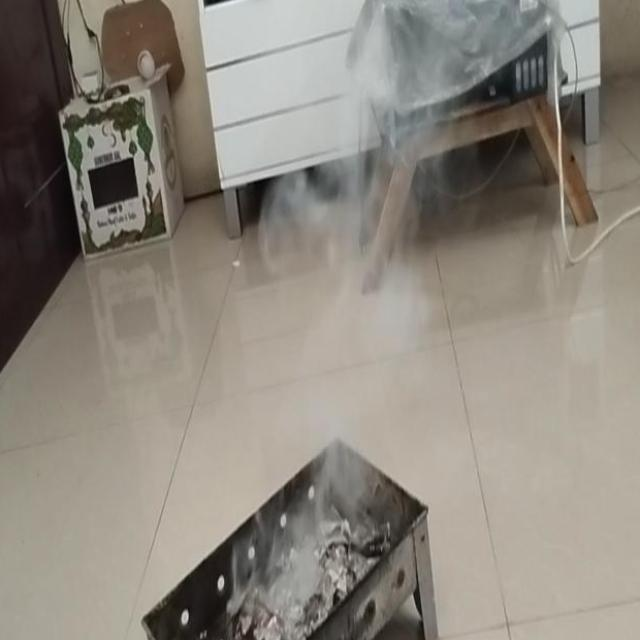fire: (261, 136, 434, 354), (282, 358, 380, 583)
